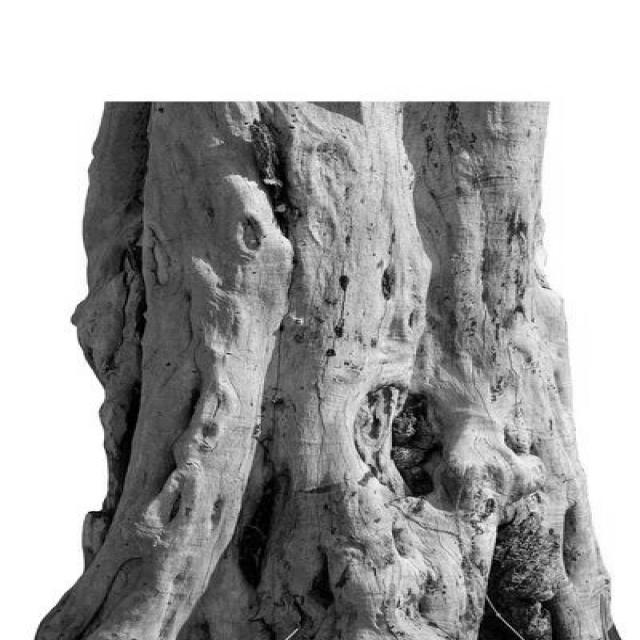Tree: (35, 101, 616, 640)
